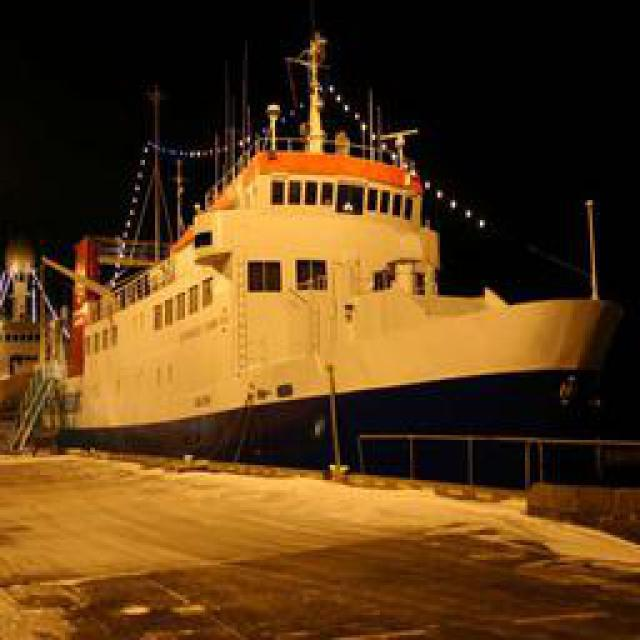Ship: (45, 85, 623, 473)
